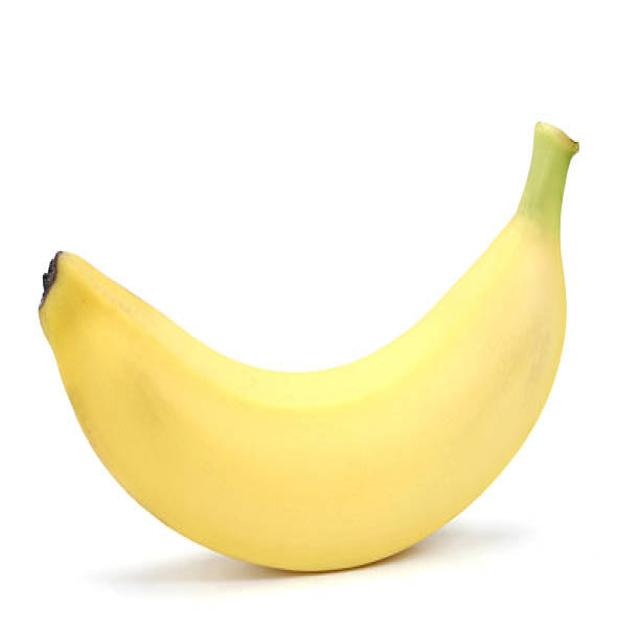Ripe: (32, 116, 578, 578)
